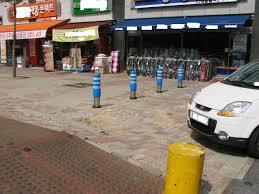Animal: (88, 69, 109, 106), (127, 68, 142, 108), (175, 62, 189, 92), (152, 66, 165, 92)
